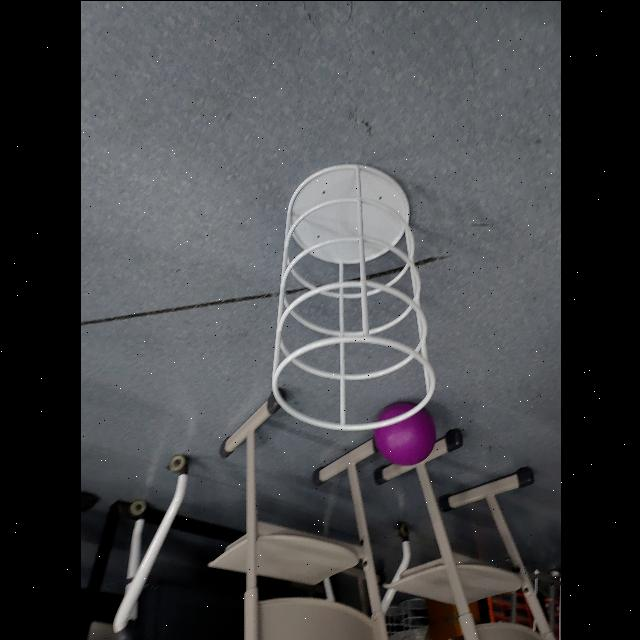S: (269, 160, 439, 432)
